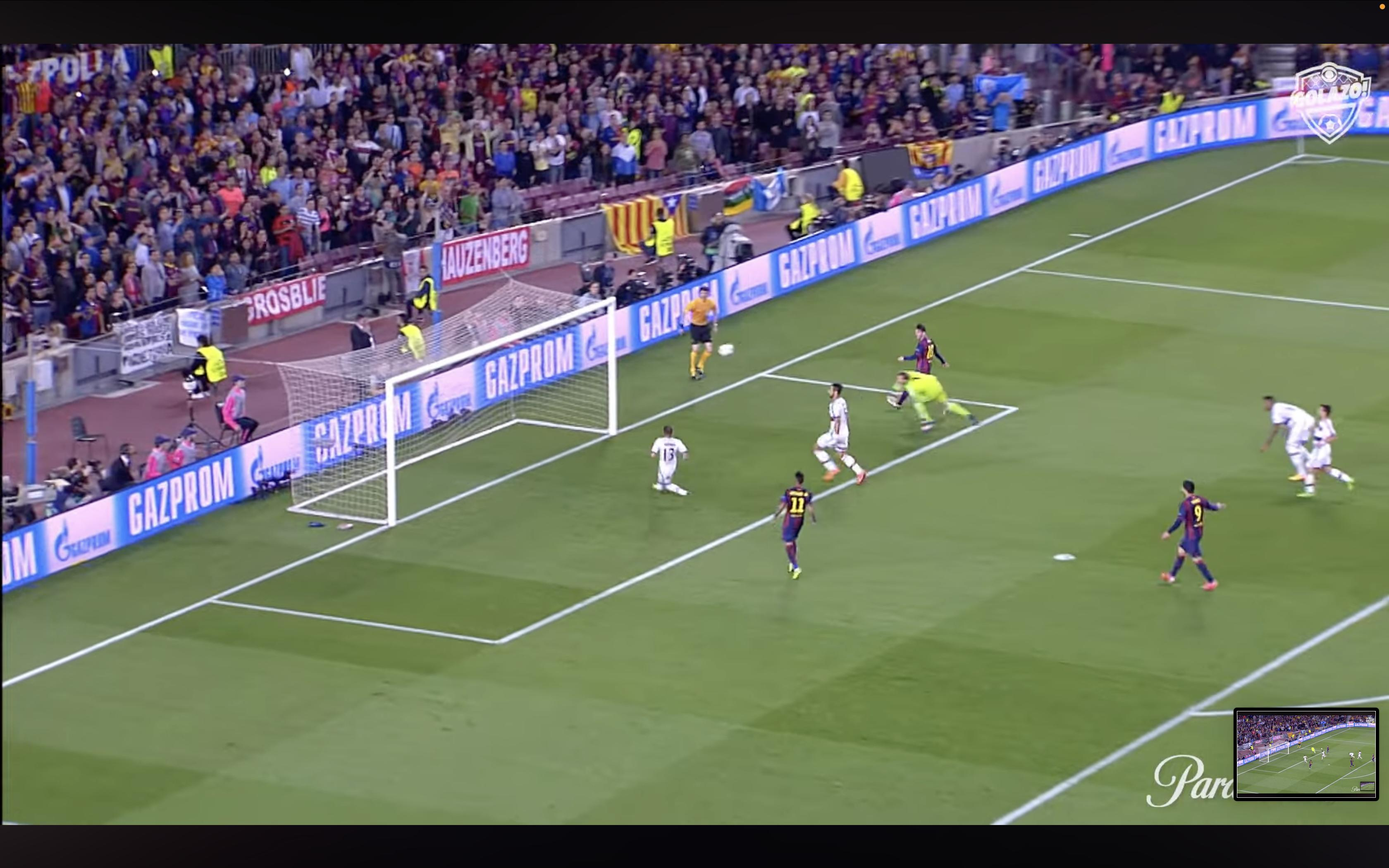ball: (718, 343, 734, 356)
goalkeeper: (895, 371, 978, 431)
player: (1161, 480, 1224, 590), (813, 383, 866, 484), (1298, 404, 1353, 497), (1261, 395, 1315, 481), (773, 472, 815, 579), (651, 425, 688, 496), (897, 324, 949, 374)
referee: (685, 285, 717, 379)
